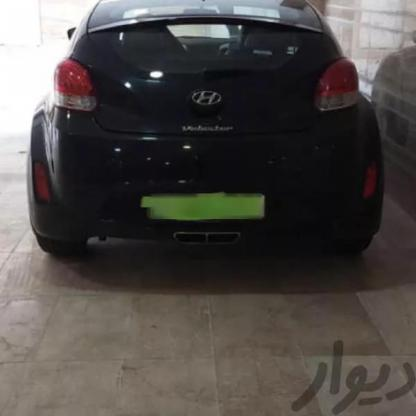Car: (6, 0, 370, 298)
